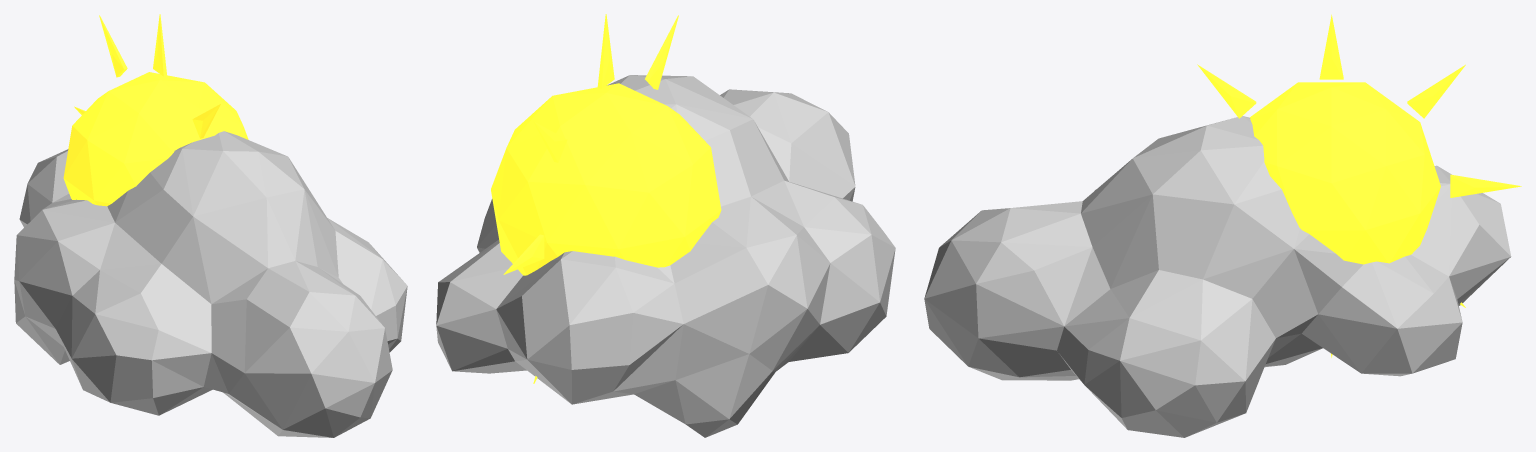
The picture shows the model from 3 angles, left to right: view 1: azimuth 30°, elevation 25°; view 2: azimuth 150°, elevation 25°; view 3: azimuth 270°, elevation 25°; orthographic projection. The views are drawn at different scales.
Visible parts, largest first — view 1: Cloud, Sun.001; view 2: Cloud, Sun.001; view 3: Cloud, Sun.001.
Part boxes in pixels (x1,y1,x2,y2): Cloud: (14,131,407,437); Sun.001: (63,14,248,206); Cloud: (436,75,895,437); Sun.001: (491,14,721,383); Cloud: (924,116,1511,437); Sun.001: (1197,14,1521,357).
Bounding box in the file's own units: 3.93 × 3.75 × 5.7.
